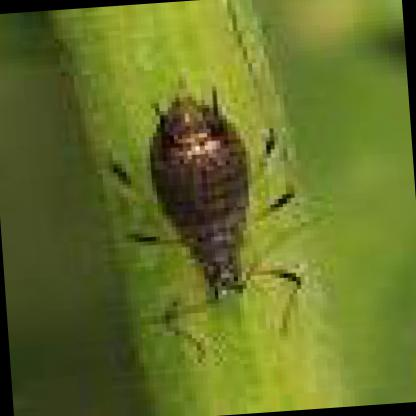uroleucon compositae: (112, 80, 255, 298)
